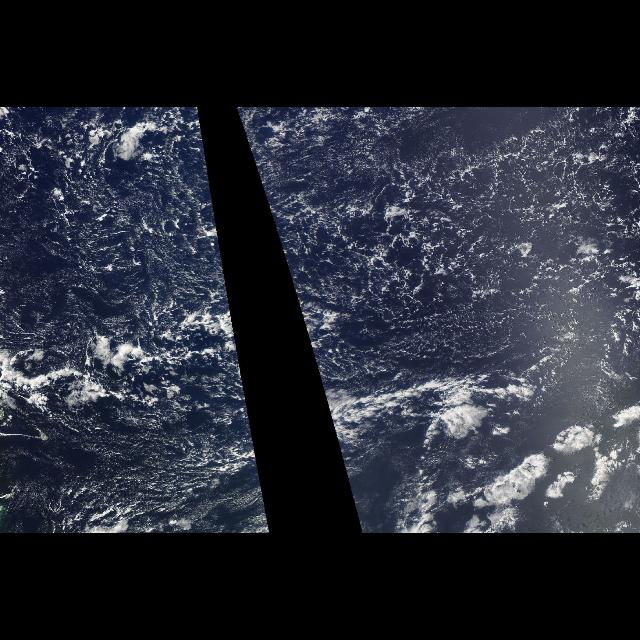Fish: (372, 381, 640, 533)
Flower: (394, 396, 640, 532)
Gravel: (235, 108, 639, 438), (2, 108, 254, 438)
Sugar: (1, 414, 246, 534)
